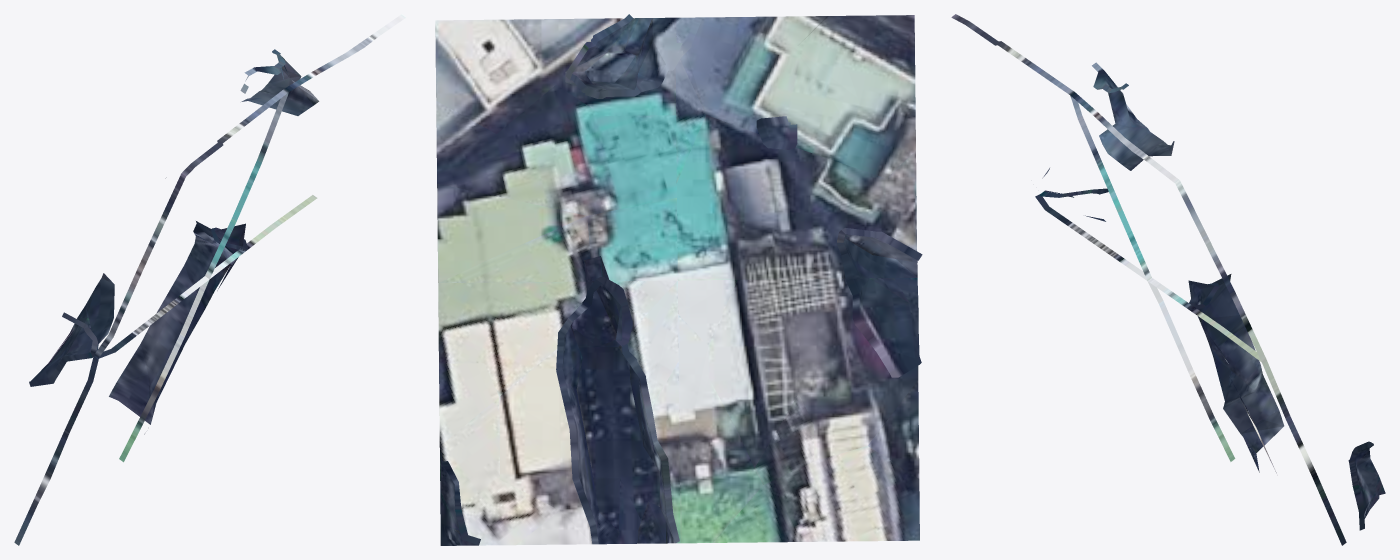
3 renders of one model, left to right at view 1: azimuth 30°, elevation 25°; view 2: azimuth 150°, elevation 25°; view 3: azimuth 270°, elevation 25°, orthographic. The views are drawn at different scales.
Bounding box in the file's own units: 37.91 × 37.12 × 33.89.
Materials: 1 (1 with a texture image).
